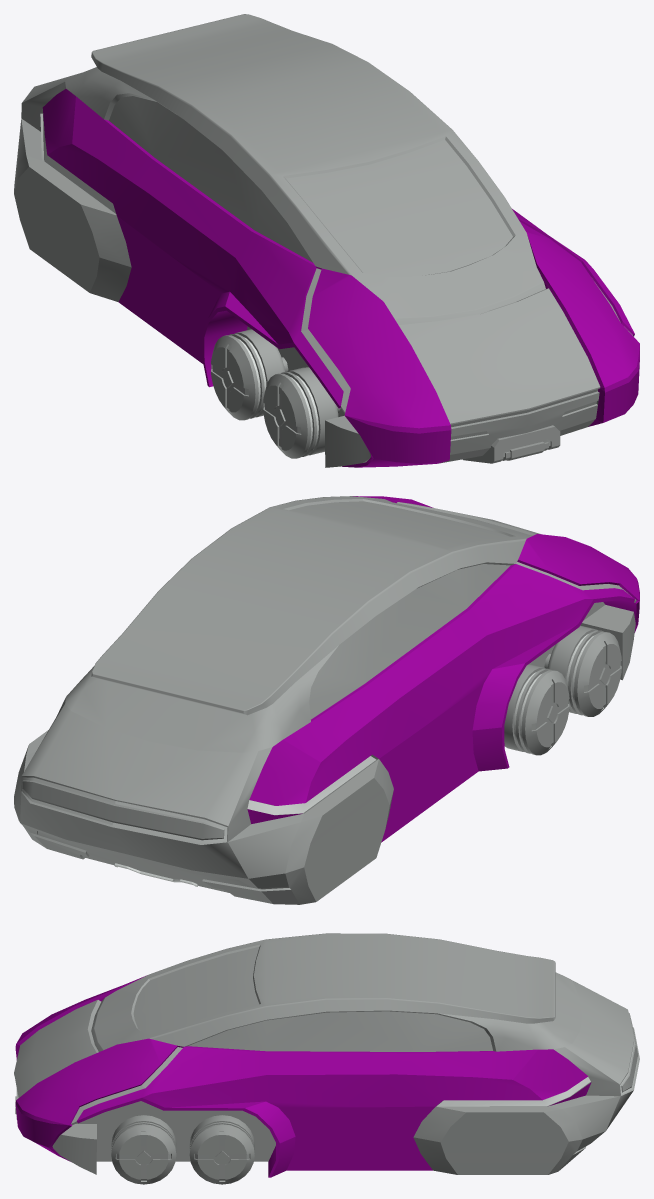
The picture shows the model from 3 angles, top to bottom: view 1: azimuth 30°, elevation 25°; view 2: azimuth 150°, elevation 25°; view 3: azimuth 270°, elevation 25°; orthographic projection. The views are drawn at different scales.
Visible parts, largest first — view 1: G:\FFXIV-MapTools\exports\x6t1\bg\ex5\01_xkt_x6\twn\x6t1\bgp (×2); view 2: G:\FFXIV-MapTools\exports\x6t1\bg\ex5\01_xkt_x6\twn\x6t1\bgp (×2); view 3: G:\FFXIV-MapTools\exports\x6t1\bg\ex5\01_xkt_x6\twn\x6t1\bgp (×2).
Boxes of the visible parts, x1,y1,x2,y2 form: G:\FFXIV-MapTools\exports\x6t1\bg\ex5\01_xkt_x6\twn\x6t1\bgp (×2): [14, 14, 639, 467]; G:\FFXIV-MapTools\exports\x6t1\bg\ex5\01_xkt_x6\twn\x6t1\bgp (×2): [14, 496, 639, 904]; G:\FFXIV-MapTools\exports\x6t1\bg\ex5\01_xkt_x6\twn\x6t1\bgp (×2): [14, 933, 639, 1184].
Bounding box in the file's own units: 3.68 × 2.32 × 8.17.
